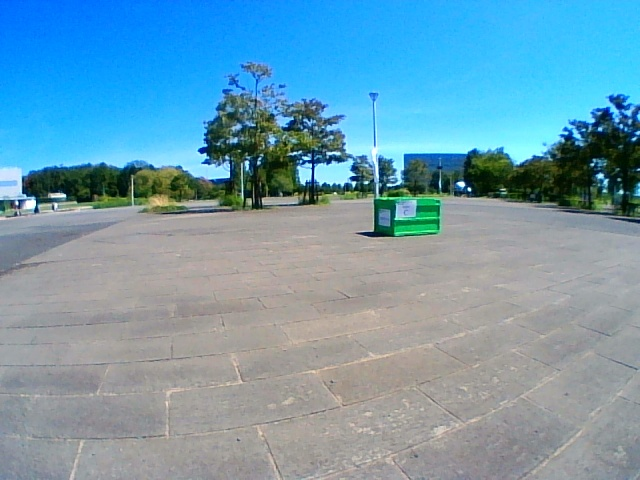green_box: (375, 197, 440, 235)
tag: (395, 201, 416, 217)
